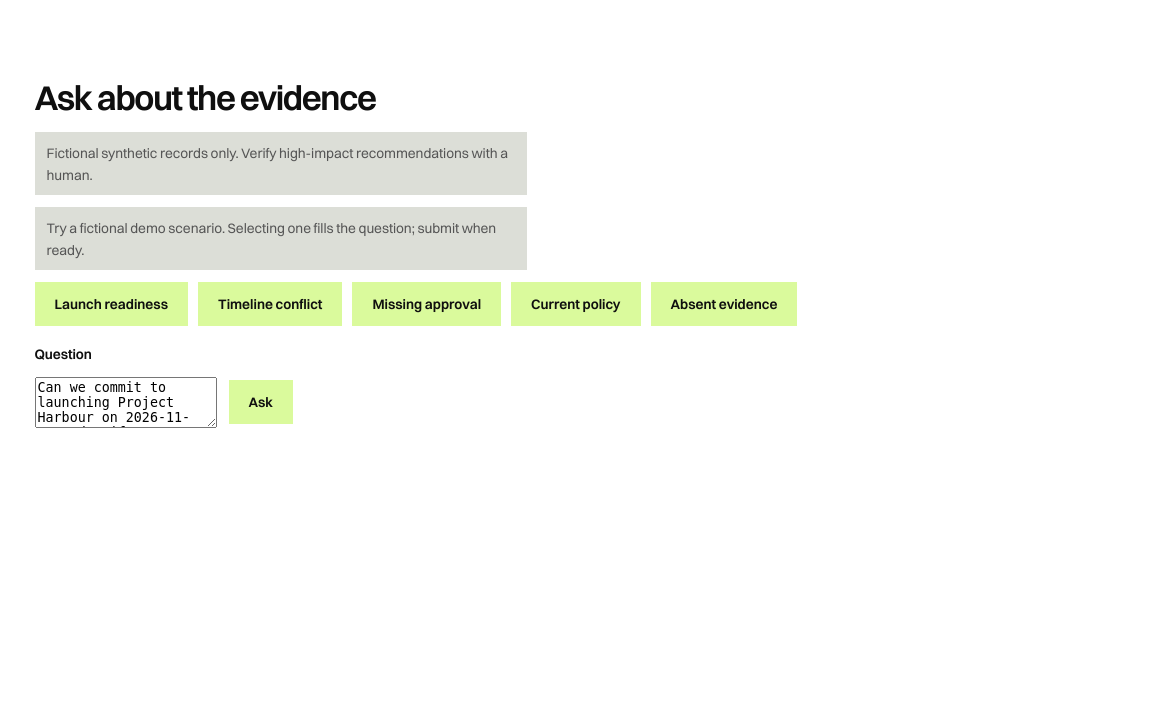
Test: Ask evidence interaction › submits a question and renders exact evidence, links and local disclosure
The width and height of the screenshot is (1152, 711).
Replace the text in the text box labelled "Question" with "  Can Harbour launch?  ": [126, 402] box x1=34 y1=377 x2=216 y2=428
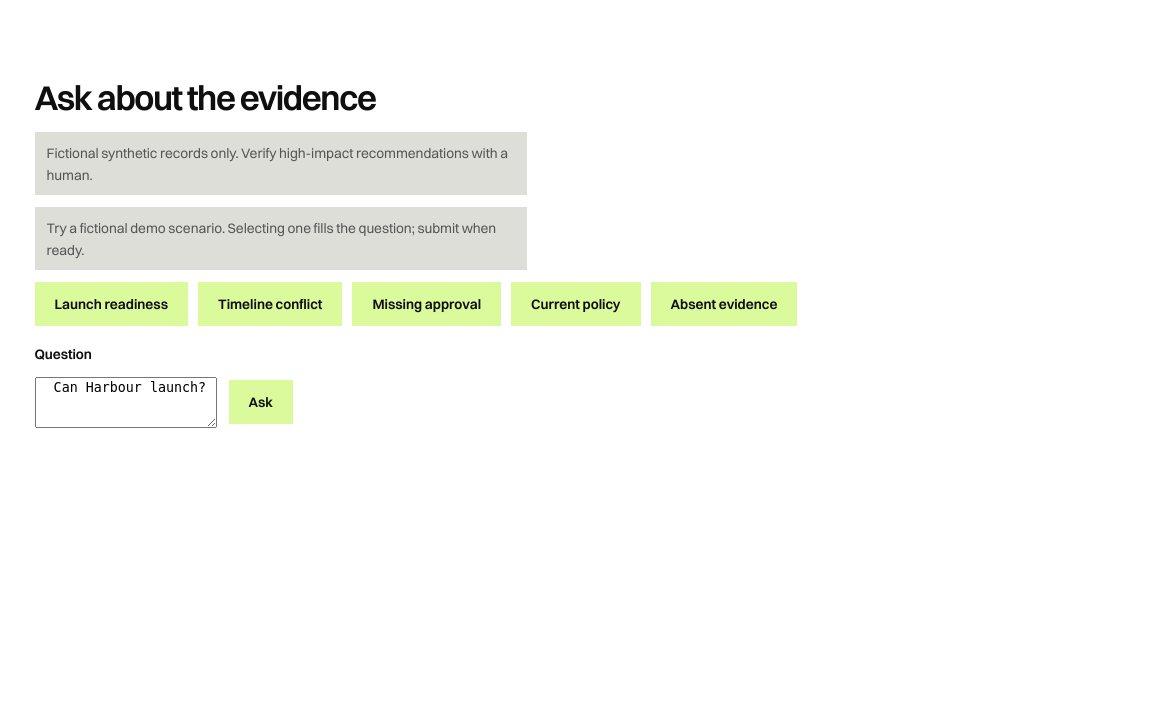
Click the button "Ask": [261, 402] box x1=228 y1=380 x2=293 y2=424
(page scrolled)
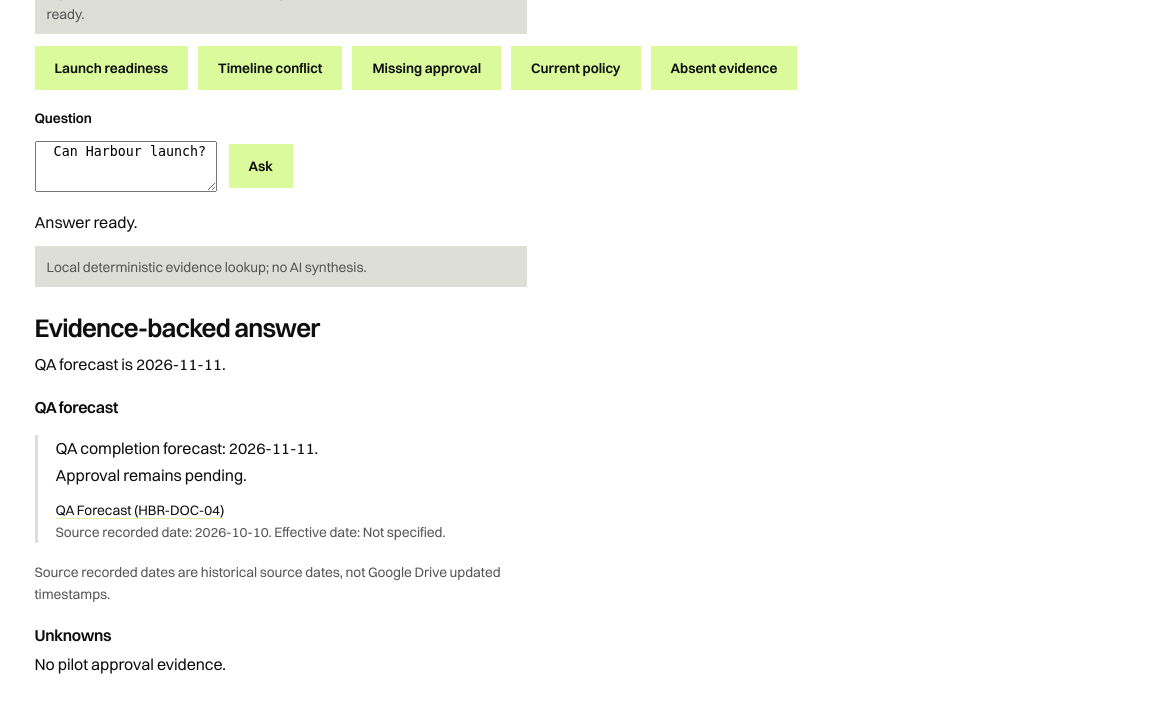
Result: the element named "Grounded answer" is shown at x1=34 y1=246 x2=1117 y2=676
Result: the text "Local deterministic evidence lookup; no AI synthesis." is shown at x1=34 y1=246 x2=527 y2=287
Result: the list item "No pilot approval evidence." is shown at x1=34 y1=654 x2=226 y2=674
